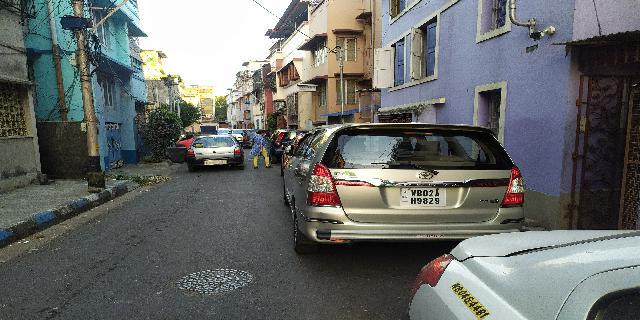Car: (284, 117, 540, 250), (180, 135, 247, 171)
